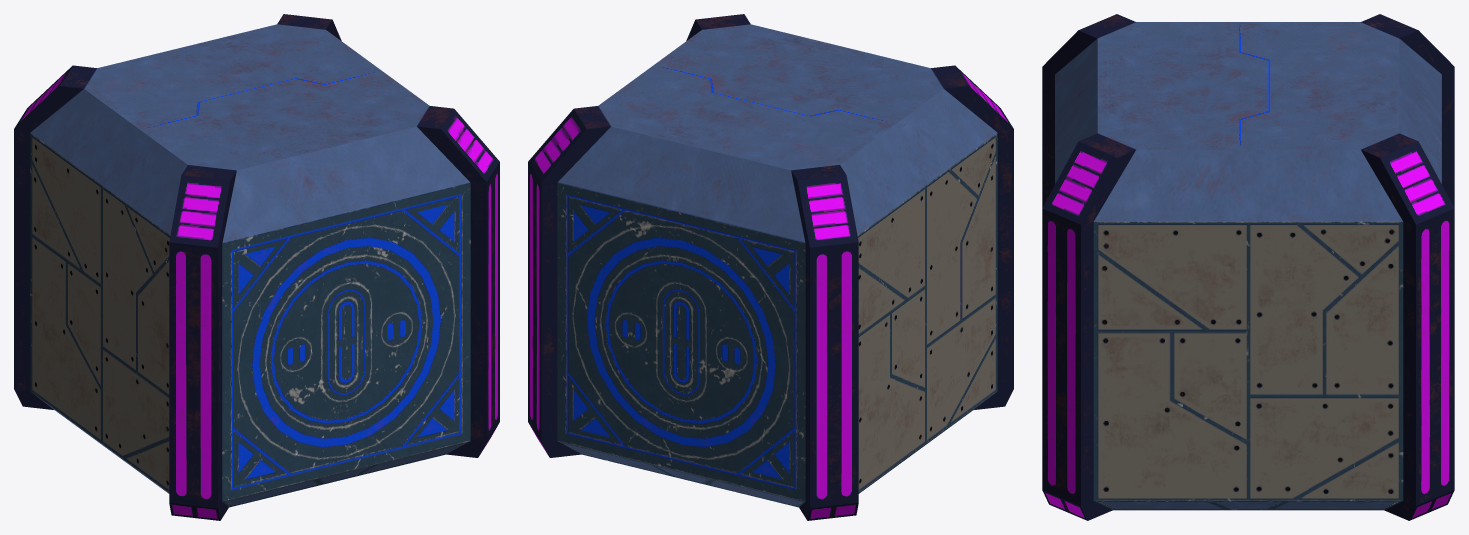
Rendered from HealItem.fbx.
3 renders of one model, left to right at view 1: azimuth 30°, elevation 25°; view 2: azimuth 150°, elevation 25°; view 3: azimuth 270°, elevation 25°, orthographic. The views are drawn at different scales.
Parts seen in each view (by area): view 1: HealCrte; view 2: HealCrte; view 3: HealCrte.
Part boxes in pixels (x1,y1,x2,y2): HealCrte: (14,14,499,520); HealCrte: (528,14,1013,520); HealCrte: (1042,14,1454,520).
Bounding box in the file's own units: 21309 × 19995 × 21309.
Materials: 1 (1 with a texture image).
